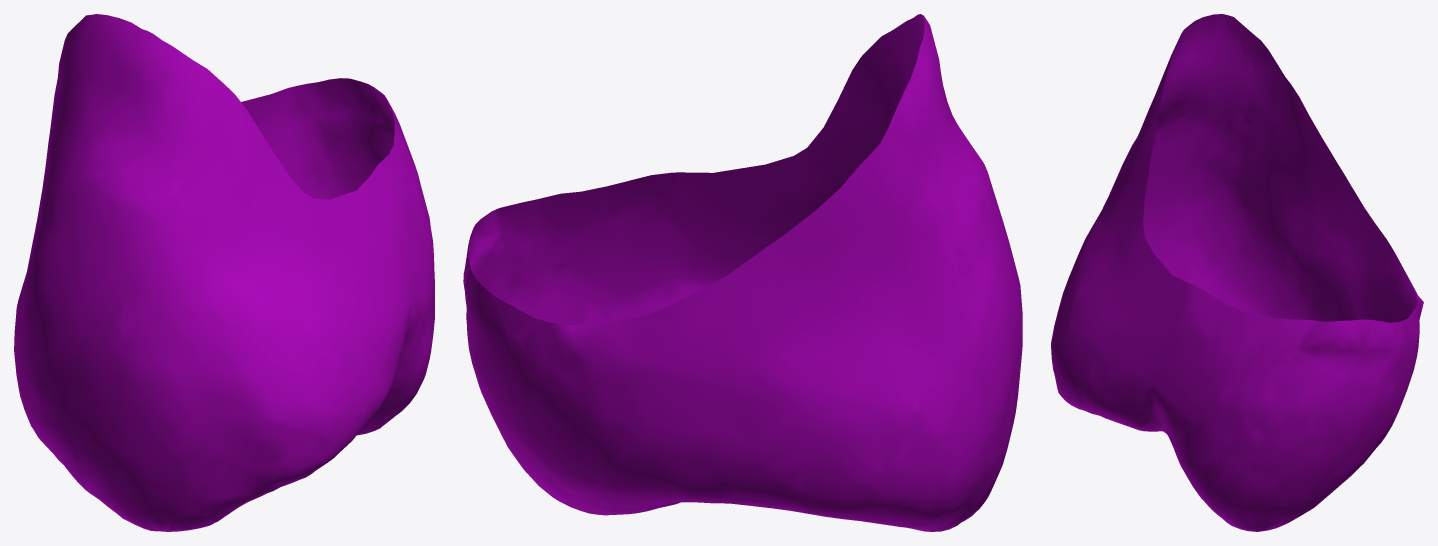
File: OCTTooth_5_Y.glb
3 views of the same model, side by side, from view 1: azimuth 30°, elevation 25°; view 2: azimuth 150°, elevation 25°; view 3: azimuth 270°, elevation 25° (orthographic). The views are drawn at different scales.
Parts seen in each view (by area): view 1: 5.001; view 2: 5.001; view 3: 5.001.
Part boxes in pixels (x1,y1,x2,y2): 5.001: (14, 14, 434, 531); 5.001: (463, 14, 1022, 531); 5.001: (1051, 14, 1423, 531).
Size of the model in its own units: 9.63 by 10.74 by 8.96.
